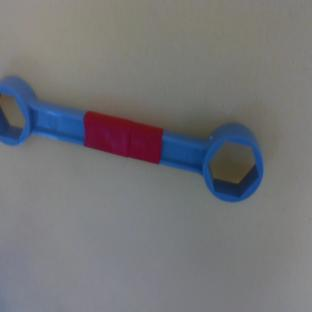part_3_good: (0, 73, 272, 207)
